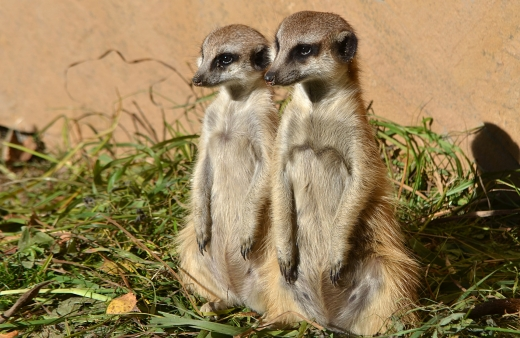meerkat: (261, 4, 427, 336), (180, 19, 288, 314)
